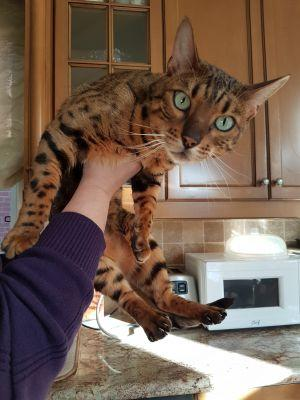bengal: (150, 9, 296, 172)
